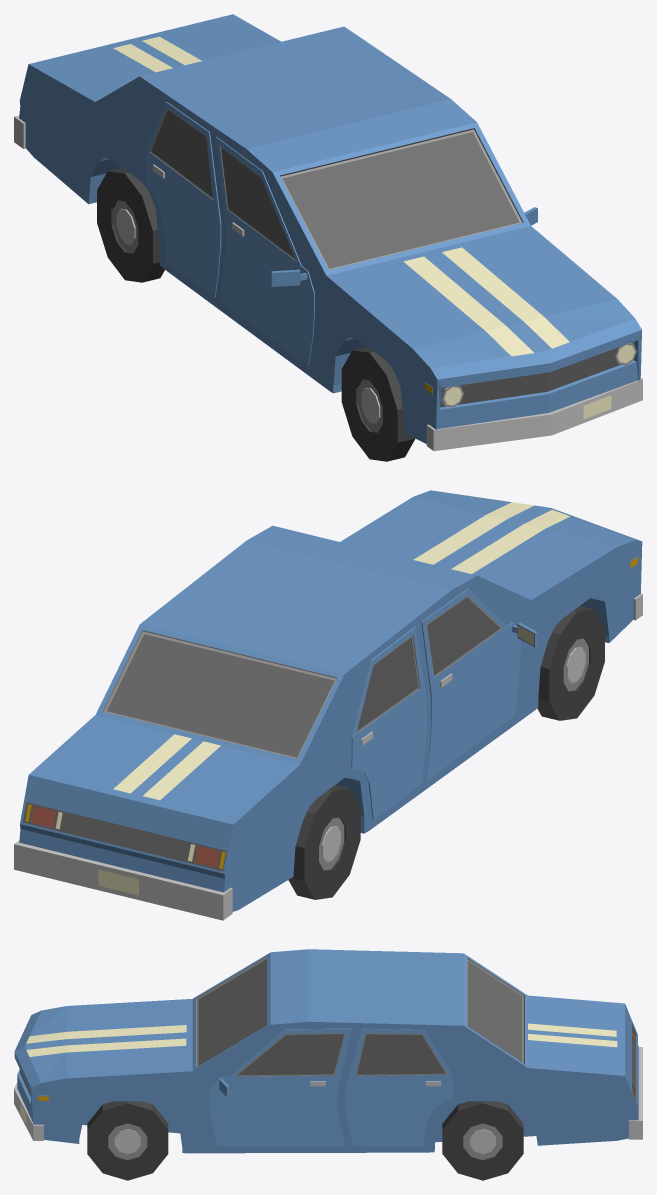
The model's file is Sports car.fbx.
The picture shows the model from 3 angles, top to bottom: view 1: azimuth 30°, elevation 25°; view 2: azimuth 150°, elevation 25°; view 3: azimuth 270°, elevation 25°; orthographic projection. The views are drawn at different scales.
Visible parts, largest first — view 1: trhh, Cylinder_2_1, Cylinder_2_3; view 2: trhh, Cylinder_2_3, Cylinder_2_1; view 3: trhh, Cylinder_2_2, Cylinder_2.
Part boxes in pixels (x1,y1,x2,y2): trhh: (14, 14, 642, 451); Cylinder_2_1: (341, 347, 415, 461); Cylinder_2_3: (97, 168, 164, 282); trhh: (14, 490, 642, 920); Cylinder_2_3: (288, 785, 360, 899); Cylinder_2_1: (537, 606, 604, 720); trhh: (14, 949, 642, 1153); Cylinder_2_2: (442, 1101, 523, 1180); Cylinder_2: (87, 1101, 168, 1180).
Bounding box in the file's own units: 169 × 133 × 477.
